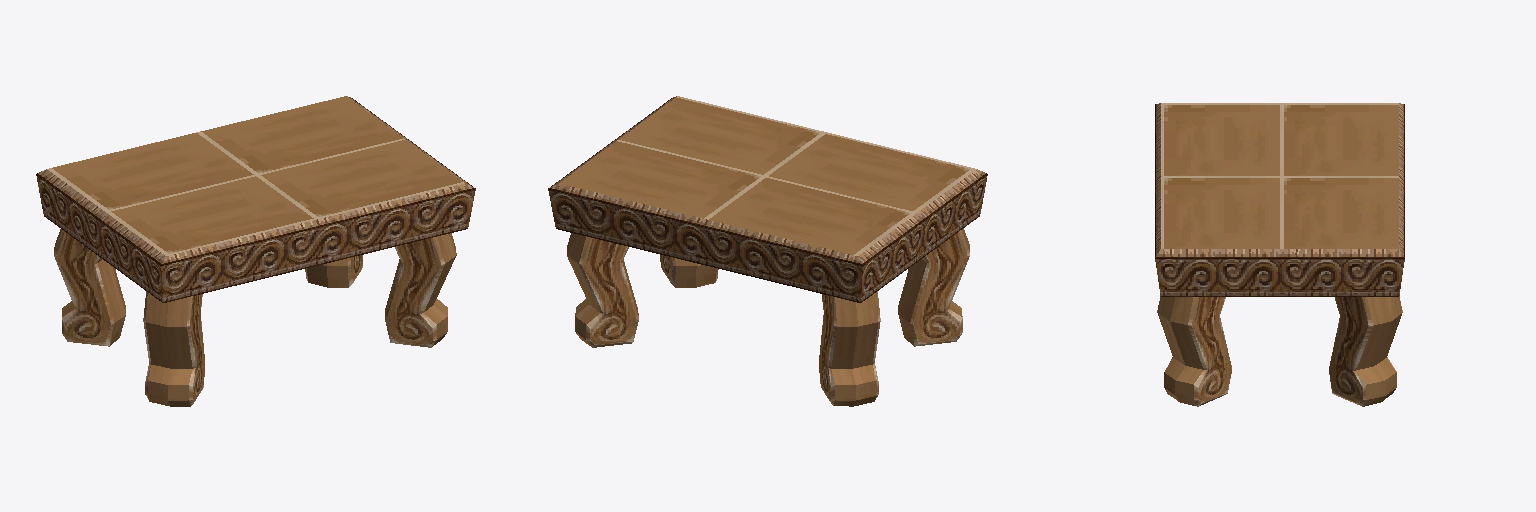
3 renders of one model, left to right at view 1: azimuth 30°, elevation 25°; view 2: azimuth 150°, elevation 25°; view 3: azimuth 270°, elevation 25°, orthographic.
Visible parts, largest first — view 1: part8_texture0, part6_texture2, part1_texture1.002, part0_texture0.002, part7_texture2; view 2: part8_texture0, part6_texture2, part1_texture1.002, part0_texture0.002, part7_texture2; view 3: part8_texture0, part7_texture2, part1_texture1.002, part0_texture0.002, part6_texture2.
Boxes of the visible parts, x1,y1,x2,y2 form: part8_texture0: [47, 96, 464, 255]; part6_texture2: [161, 183, 475, 302]; part1_texture1.002: [54, 230, 444, 405]; part0_texture0.002: [54, 229, 456, 406]; part7_texture2: [36, 96, 472, 302]; part8_texture0: [559, 96, 976, 255]; part6_texture2: [548, 183, 862, 302]; part1_texture1.002: [579, 230, 969, 405]; part0_texture0.002: [567, 228, 969, 406]; part7_texture2: [551, 96, 987, 302]; part8_texture0: [1161, 103, 1398, 248]; part7_texture2: [1155, 249, 1404, 296]; part1_texture1.002: [1157, 296, 1402, 406]; part0_texture0.002: [1157, 296, 1402, 406]; part6_texture2: [1155, 103, 1404, 256].
Size of the model in its own units: 1.25 by 0.6055 by 0.8594.
Materials: 3 (3 with a texture image).